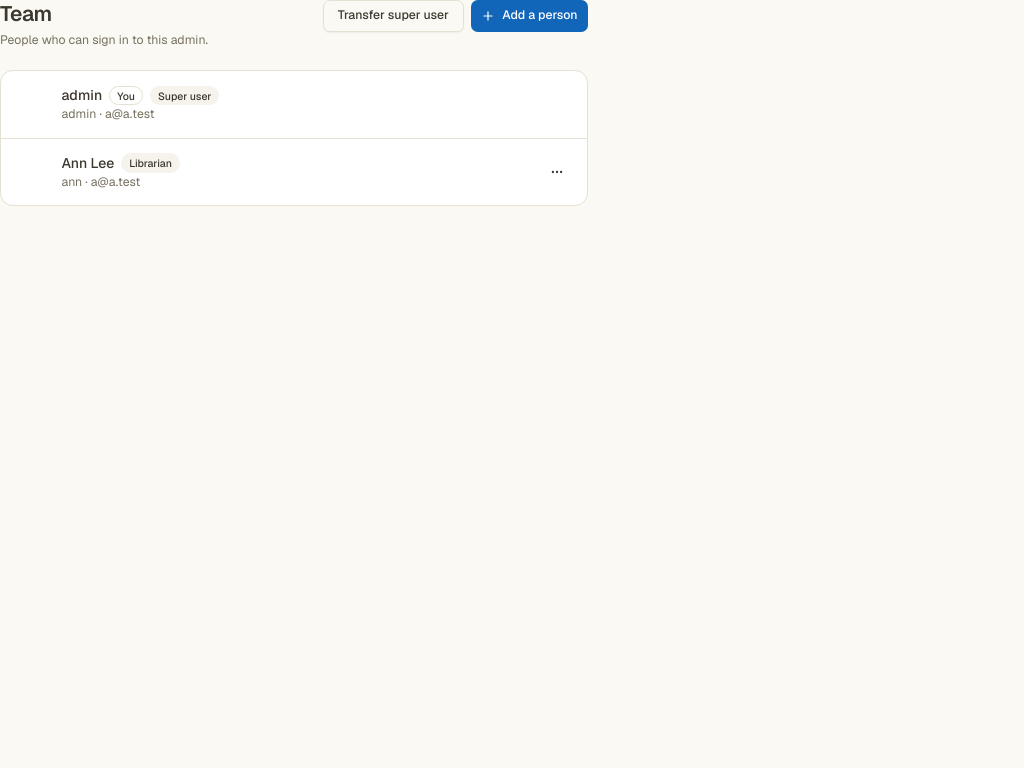
Test case: TeamPage › asks before disabling, from the menu
Expected: the text "Ann Lee" is shown, left=62, top=152, right=114, bottom=174
Press Enter in the button named "Actions for Ann Lee", box left=542, top=156, right=573, bottom=188
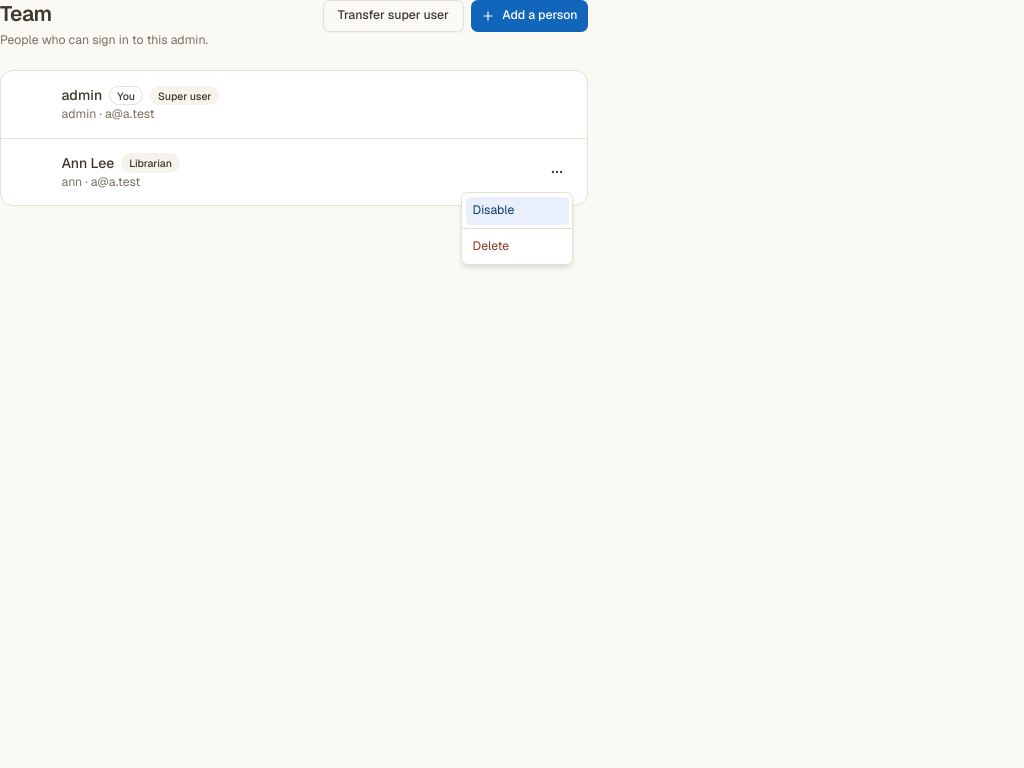
Click the menu item "Disable": (517, 210) left=466, top=196, right=568, bottom=224
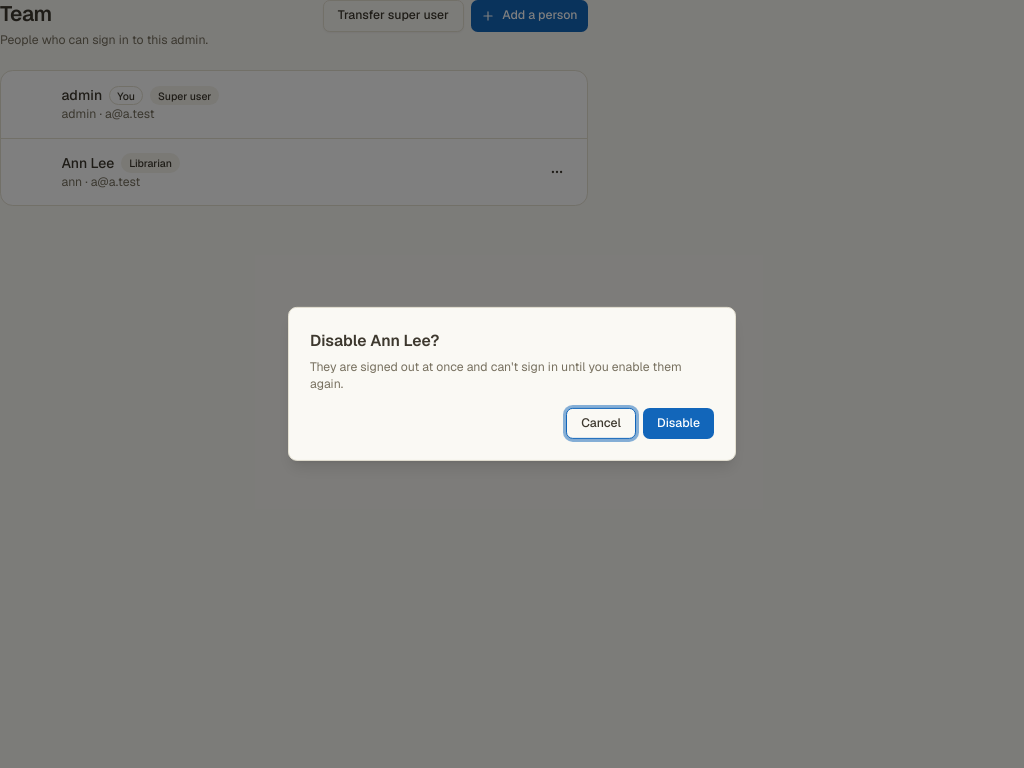
Expected: the heading "Disable Ann Lee?" is shown, left=310, top=329, right=439, bottom=353
